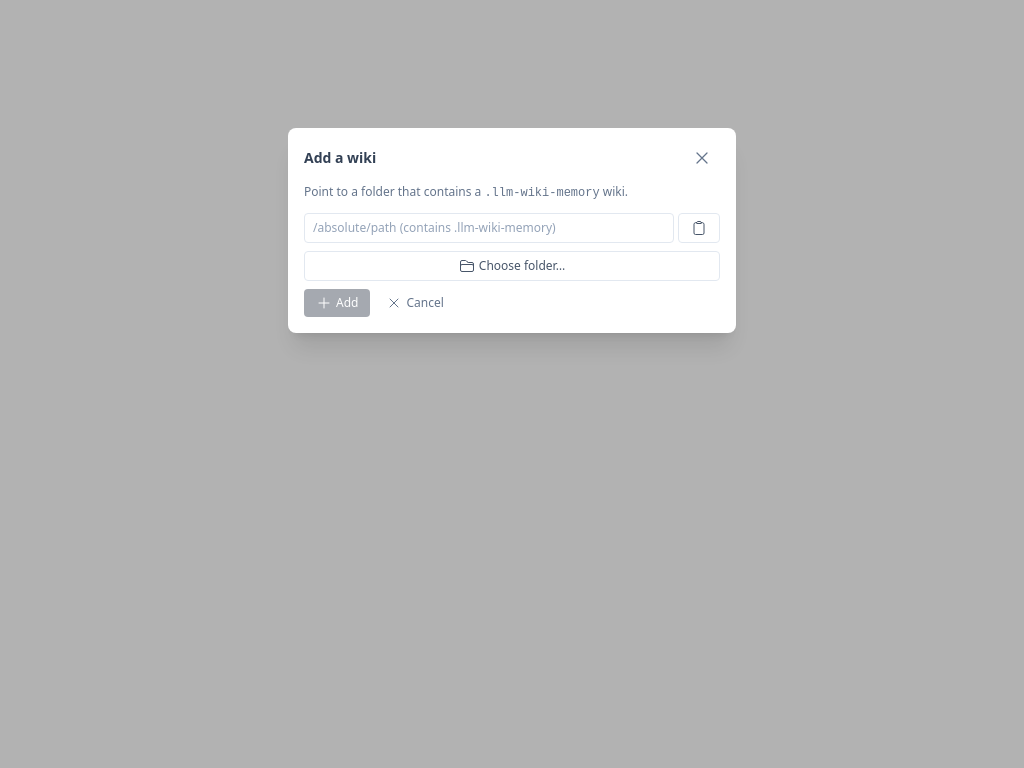
Test: the Choose folder button fills the input with the natively picked path
The image size is (1024, 768).
Click the button "Choose folder…" at [512, 266], box [304,251,720,281]
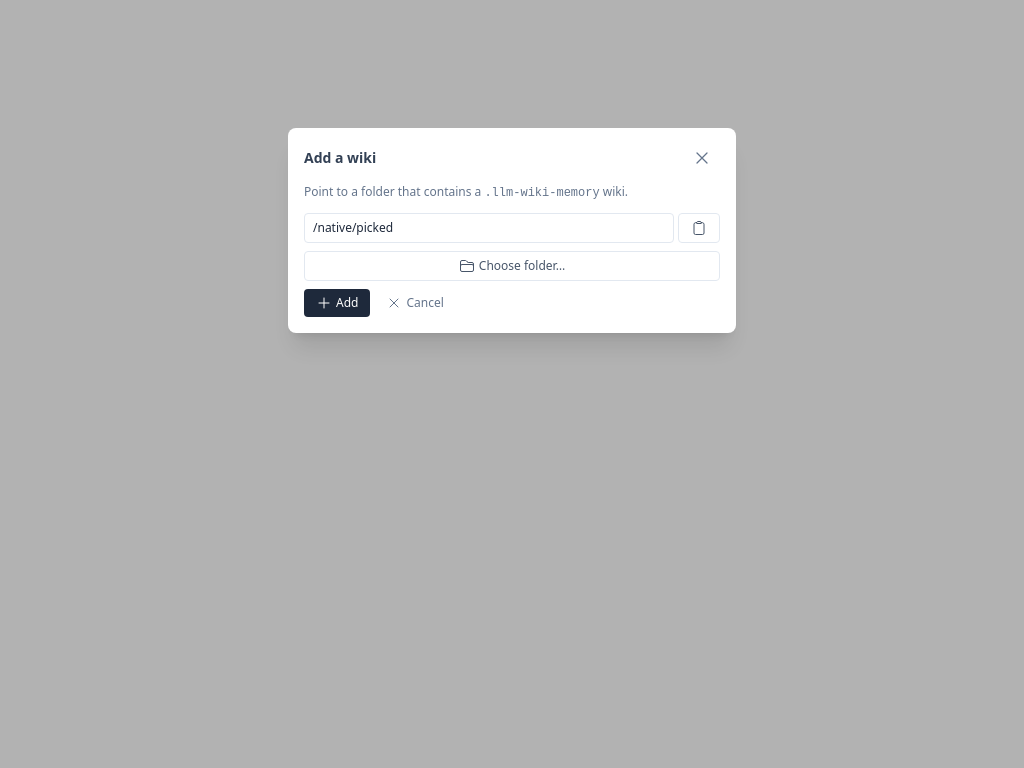
Now the field with placeholder "/absolute/path (contains .llm-wiki-memory)" holds "/native/picked", box [304,213,674,243]
